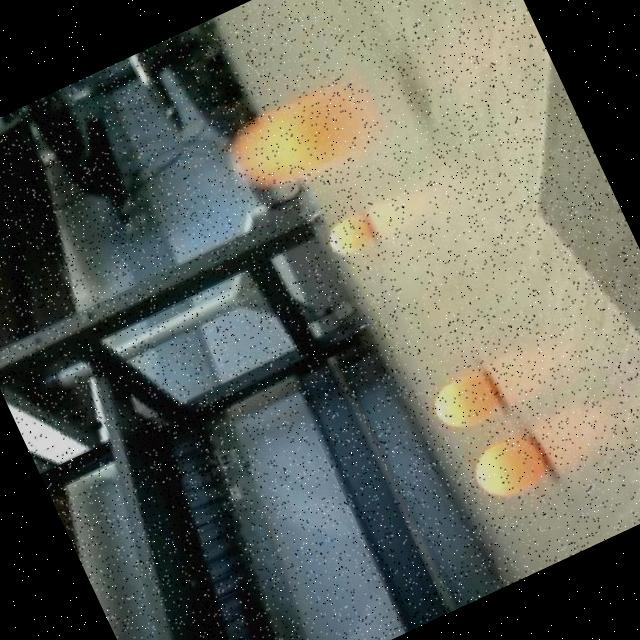ping-pong-ball: (218, 65, 384, 208), (417, 356, 513, 444), (464, 421, 558, 508), (310, 197, 386, 267)
